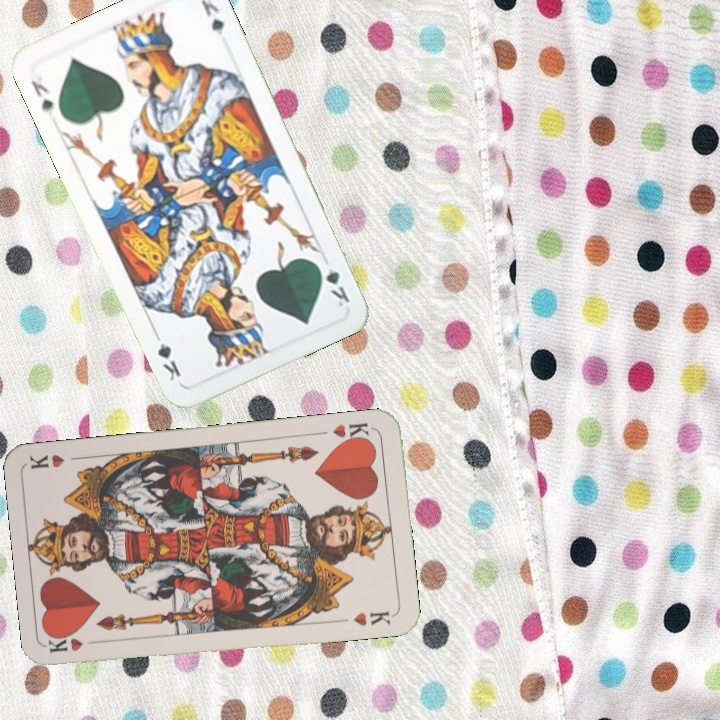GK: (312, 257, 353, 310), (27, 76, 57, 118)
HK: (46, 633, 105, 656), (328, 418, 375, 446)
